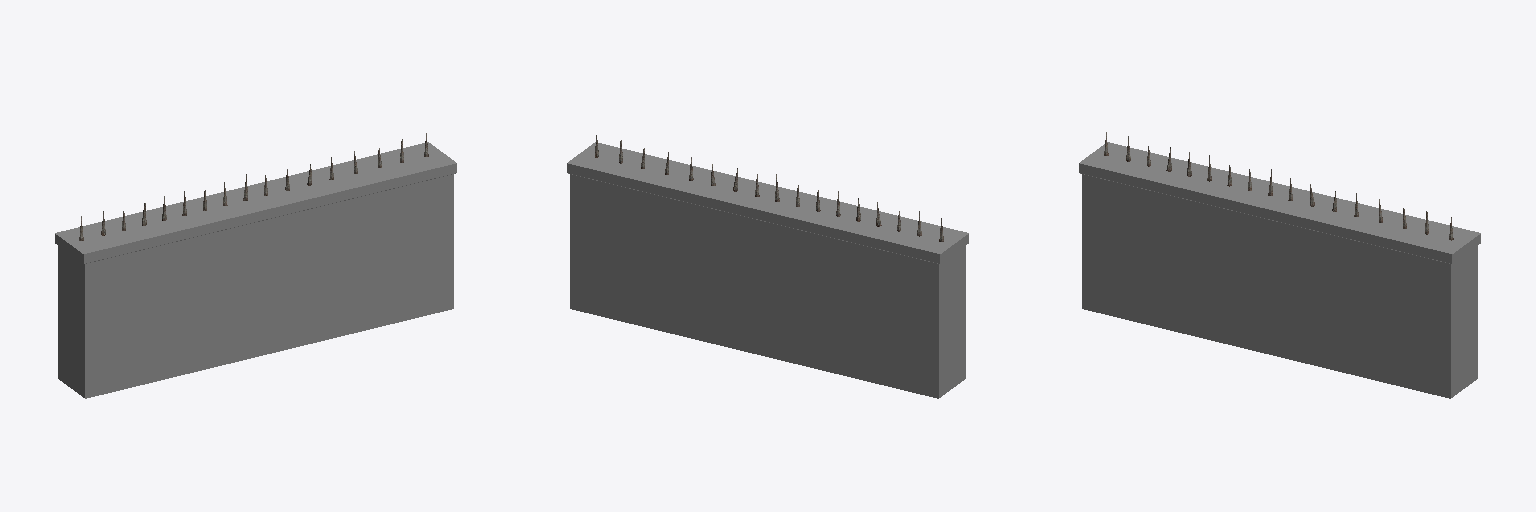
The picture shows the model from 3 angles: view 1: azimuth 30°, elevation 25°; view 2: azimuth 150°, elevation 25°; view 3: azimuth 330°, elevation 25°; orthographic projection.
Parts seen in each view (by area): view 1: Box003; view 2: Box003; view 3: Box003.
Boxes of the visible parts, x1,y1,x2,y2 form: Box003: [55, 142, 456, 398]; Box003: [567, 142, 968, 398]; Box003: [1079, 142, 1480, 398].
Bounding box in the file's own units: 10.12 × 4.55 × 1.36.
2 materials, 1 textured.